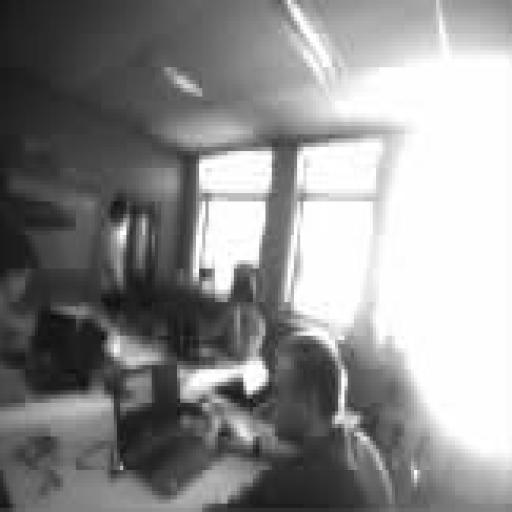human: (222, 332, 395, 507), (0, 215, 37, 402), (200, 265, 265, 360), (98, 194, 129, 310)
